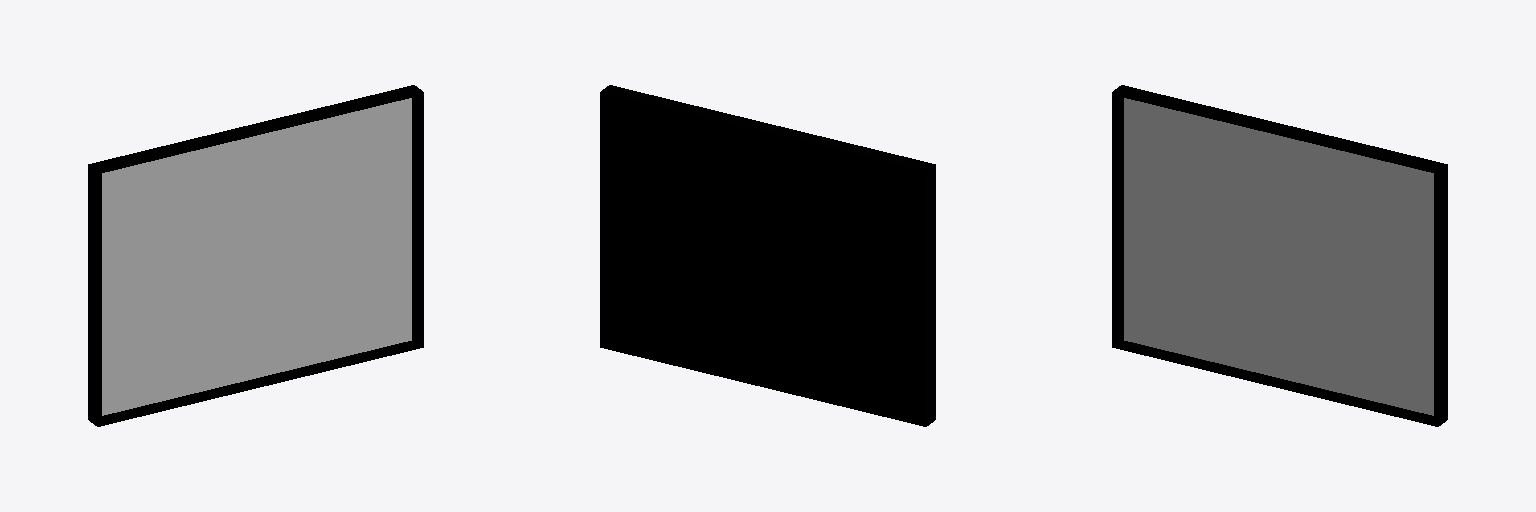
File: Khung_anh_ngang.obj
3 views of the same model, side by side, from view 1: azimuth 30°, elevation 25°; view 2: azimuth 150°, elevation 25°; view 3: azimuth 330°, elevation 25° (orthographic).
Parts seen in each view (by area): view 1: Plane, Cube; view 2: Cube; view 3: Plane, Cube.
Boxes of the visible parts, box(x1,y1,x2,y2) form: Plane: box(102, 98, 411, 415); Cube: box(88, 85, 423, 426); Cube: box(600, 85, 935, 426); Plane: box(1124, 98, 1433, 415); Cube: box(1112, 85, 1447, 426).
Size of the model in its own units: 0.4 by 0.3 by 0.02.